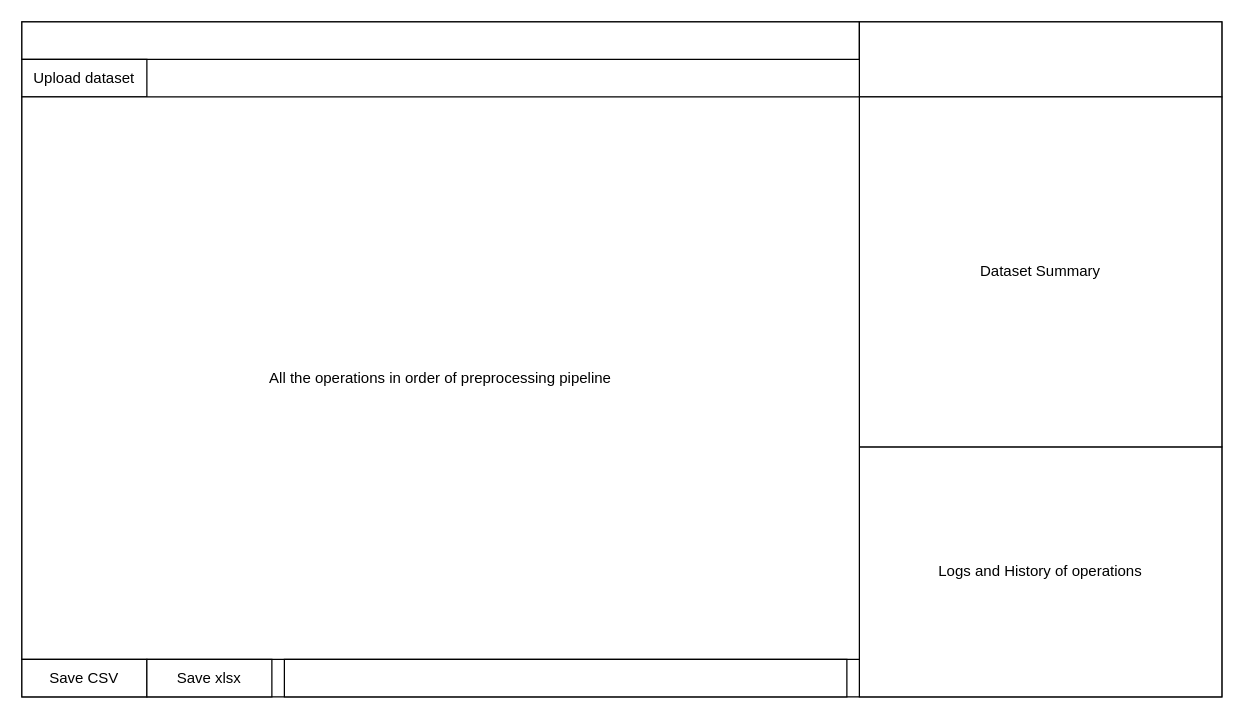
Some shapes in this 1244 by 719 pixel diagram are drawn without their labels. Here are the shapes that lost their labels. From the top down, the box of each, then its label:
(21, 21, 859, 59): Title of the Project
(858, 21, 1222, 97): AI Summary | Suggestions | Tips
(283, 658, 847, 697): progress bar while running operations
